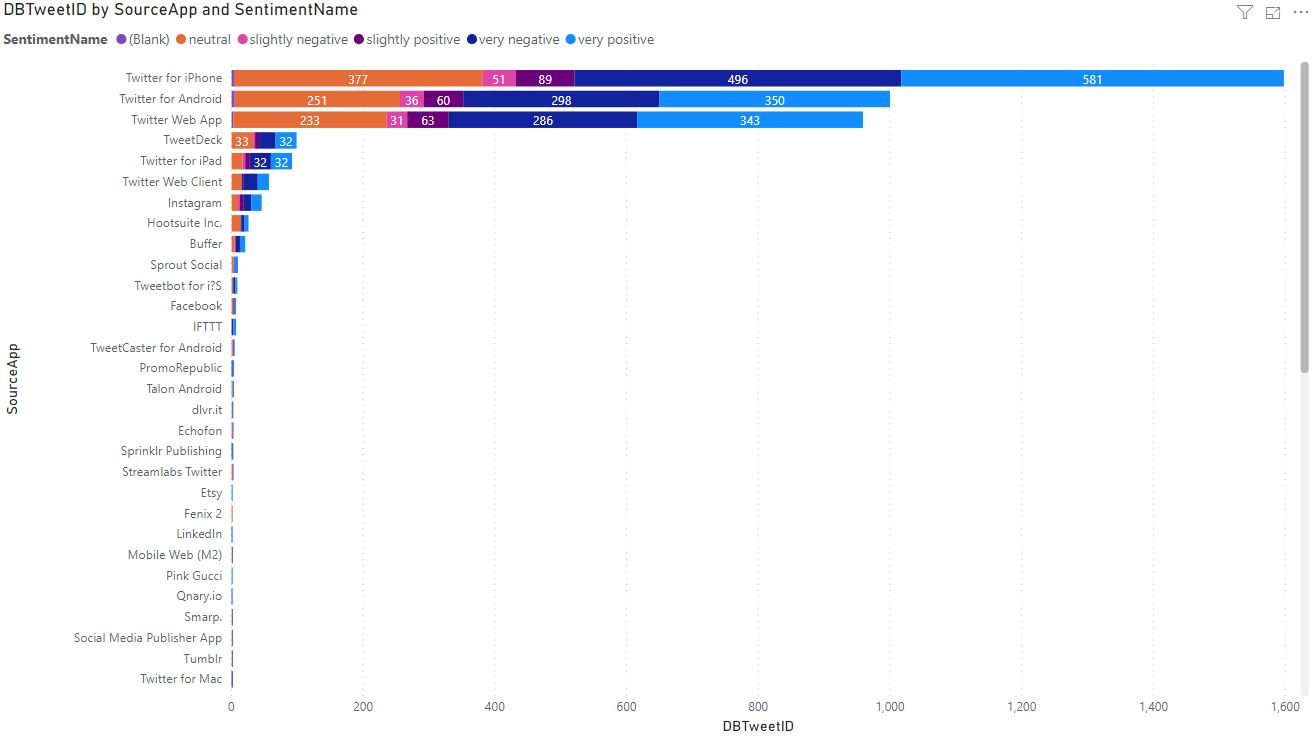

The page's visual inventory and layout, read from the dashboard file:
{"tool":"powerbi","page":{"name":"tweet by source","canvas":[1280,720],"ordinal":5},"visuals":[{"type":"barChart","fields":{"Category":["TwitterAssignmentDB TweetData.SourceApp"],"Y":["CountNonNull(TwitterAssignmentDB TweetData.DBTweetID)"],"Series":["TwitterAssignmentDB SentimentValue.SentimentName"]},"box":[0,0,1280,719.8],"z":0}]}

Visuals, with their boxes in screenshot pixels (x1, y1, x2, y2), scaled from the page's 1280x720 canvas onto the 1313x736 screenshot:
barChart - TwitterAssignmentDB TweetData.SourceApp x CountNonNull(TwitterAssignmentDB TweetData.DBTweetID): box(0, 0, 1312, 735)
